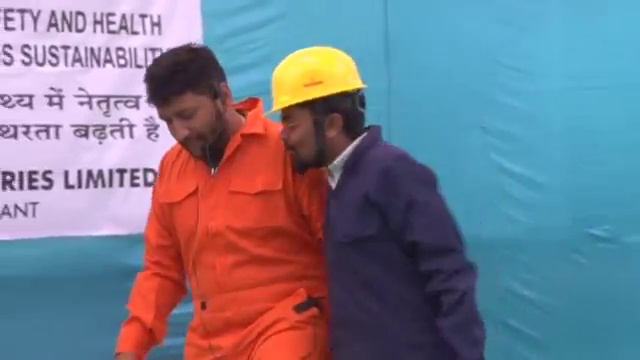helmet: (262, 44, 370, 114)
helmet_off: (143, 43, 236, 159)
helmet_on: (258, 45, 380, 169)
person: (258, 44, 487, 360), (119, 45, 331, 360)
